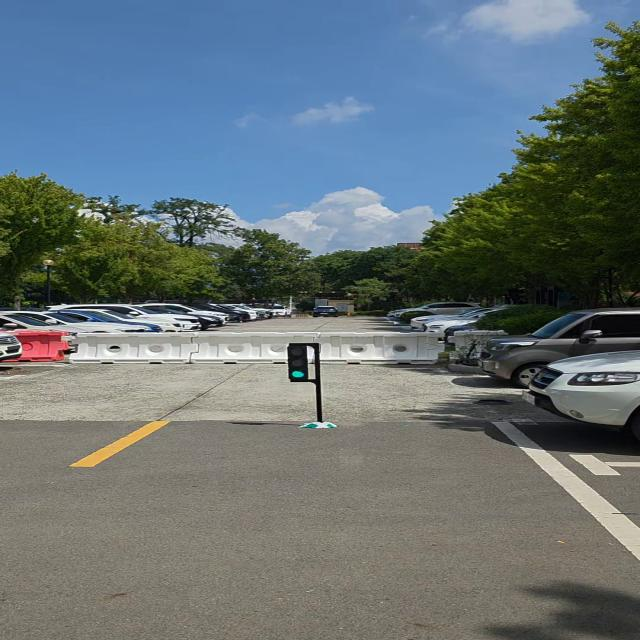green: (289, 342, 312, 382)
